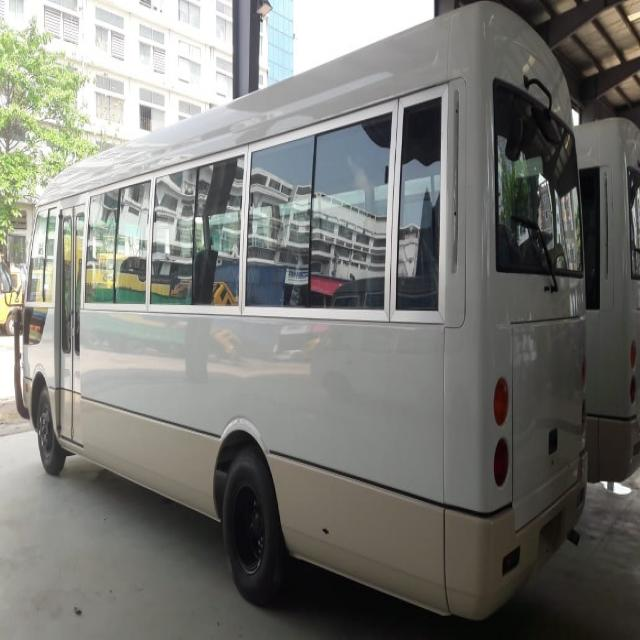bus: (14, 18, 593, 639)
